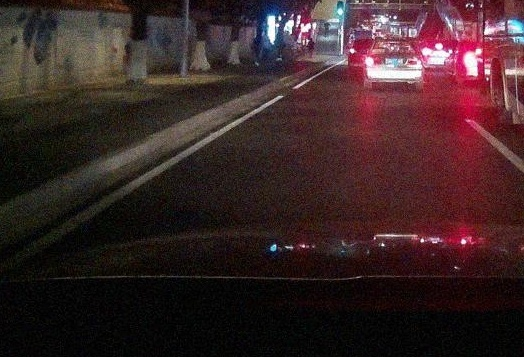L_light: (365, 56, 381, 64)
R_light: (408, 57, 423, 65)
T_light: (391, 39, 401, 41)
night-left: (364, 37, 424, 91)
